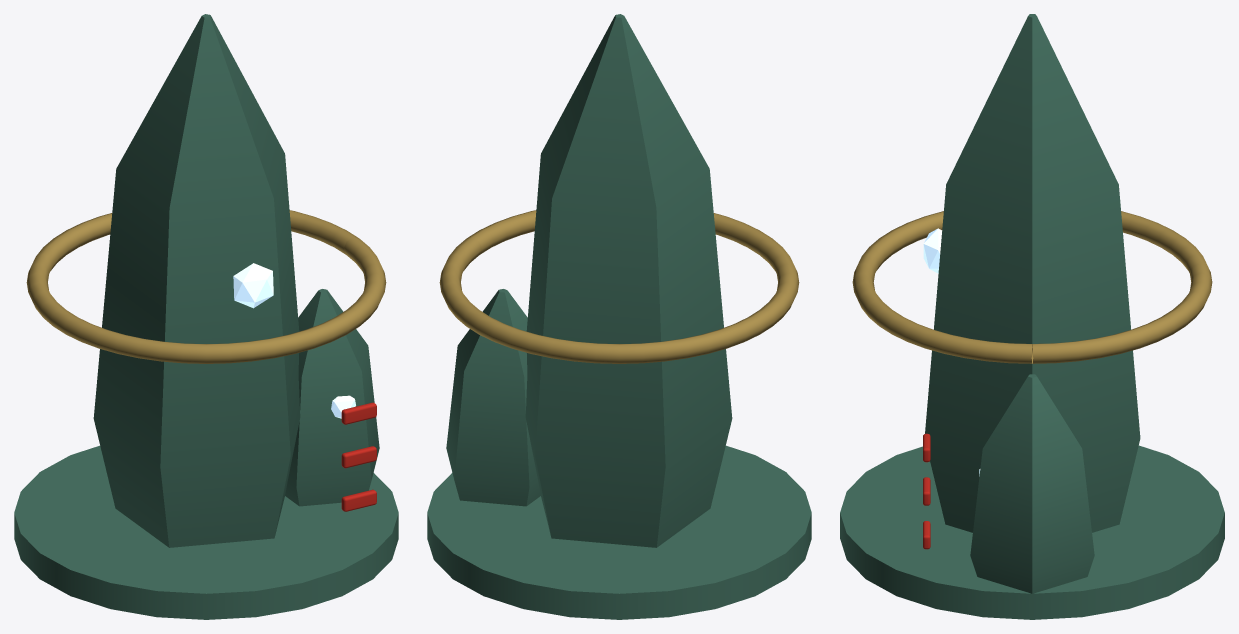
The picture shows the model from 3 angles, left to right: view 1: azimuth 30°, elevation 25°; view 2: azimuth 150°, elevation 25°; view 3: azimuth 270°, elevation 25°; orthographic projection.
Visible parts, largest first — view 1: Faceted crystal tower, Foundation drum, Crystal conductive halo, Faceted crystal tower.001, Central luminous node, Crystal red identifying inset.002, Crystal red identifying inset.001, Crystal red identifying inset; view 2: Faceted crystal tower, Foundation drum, Faceted crystal tower.001, Crystal conductive halo; view 3: Faceted crystal tower, Foundation drum, Faceted crystal tower.001, Crystal conductive halo, Central luminous node.
Part boxes in pixels (x1,y1,x2,y2): Faceted crystal tower: (93,14,300,547); Foundation drum: (14,445,398,619); Crystal conductive halo: (26,210,386,363); Faceted crystal tower.001: (285,289,379,506); Central luminous node: (233,263,273,308); Crystal red identifying inset.002: (341,402,376,424); Crystal red identifying inset.001: (341,446,376,468); Crystal red identifying inset: (341,489,376,511); Faceted crystal tower: (525,14,732,547); Foundation drum: (427,445,811,619); Faceted crystal tower.001: (446,289,540,506); Crystal conductive halo: (439,210,799,363); Faceted crystal tower: (925,14,1140,532); Foundation drum: (840,445,1224,619); Faceted crystal tower.001: (970,374,1094,593); Crystal conductive halo: (852,211,1212,363); Central luminous node: (923,228,942,273).
Size of the model in its own units: 2.04 by 3 by 2.
